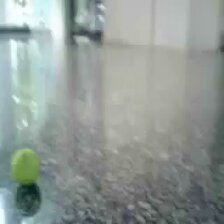tennis: (11, 150, 40, 182)
